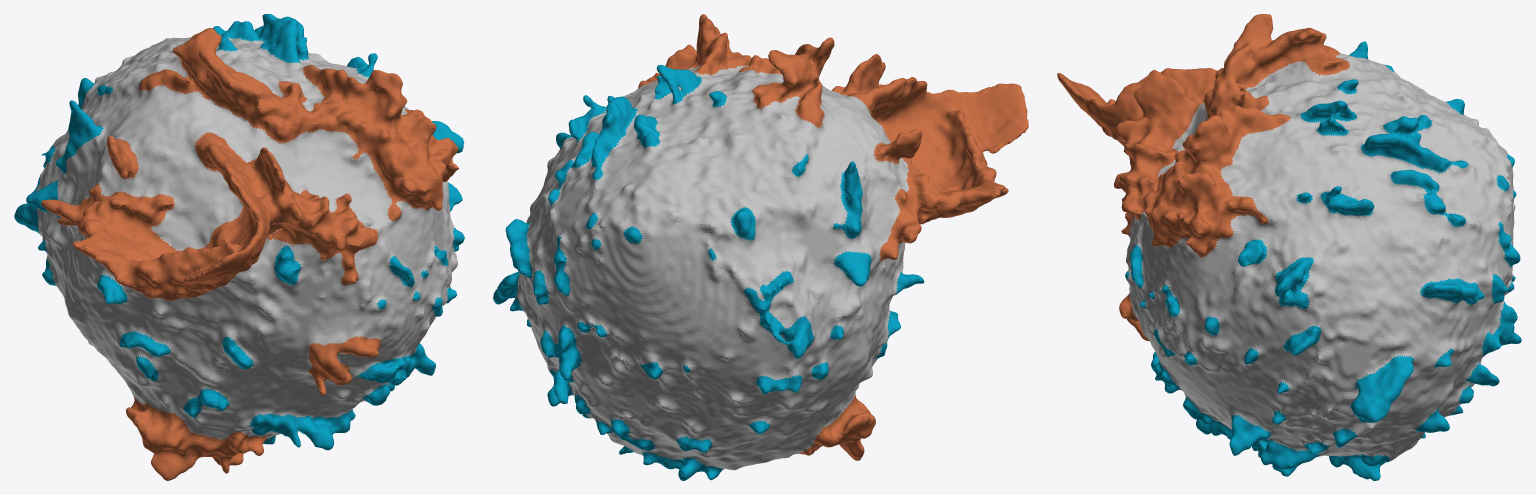
3 views of the same model, side by side, from view 1: azimuth 30°, elevation 25°; view 2: azimuth 150°, elevation 25°; view 3: azimuth 270°, elevation 25° (orthographic). The views are drawn at different scales.
Size of the model in its own units: 177 by 167 by 172.
